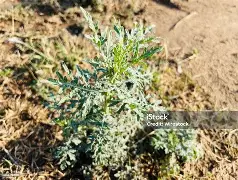weed: (56, 23, 199, 164)
